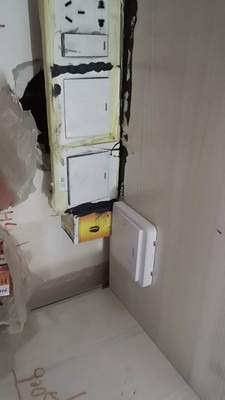switch: (65, 81, 122, 129), (69, 164, 121, 195), (62, 34, 116, 52)
